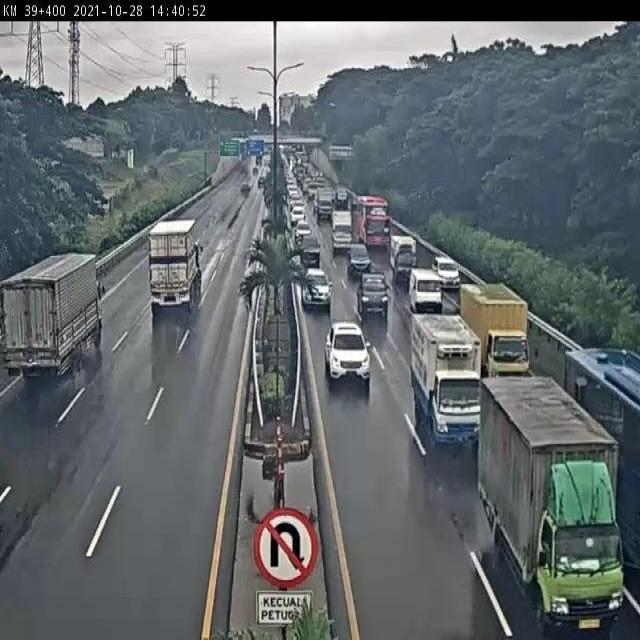car: (325, 322, 373, 390), (408, 268, 445, 313), (355, 271, 390, 317), (300, 264, 331, 311), (431, 253, 460, 291), (347, 240, 374, 273)
truck: (480, 376, 624, 631), (0, 252, 102, 380), (410, 312, 488, 451), (457, 280, 530, 381), (147, 218, 201, 310), (387, 233, 419, 280)
